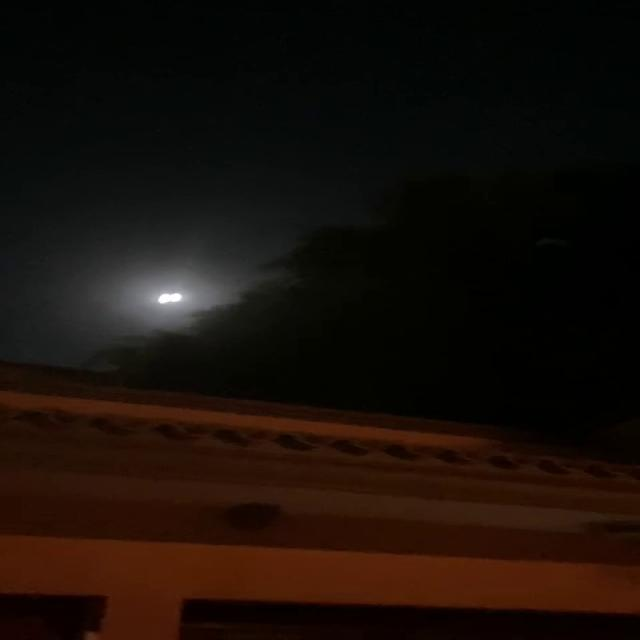moon: (151, 289, 182, 307)
